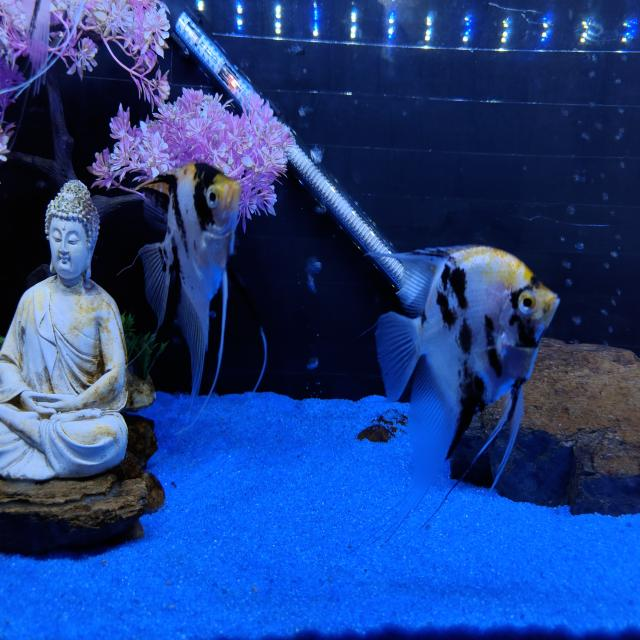Fish: (375, 246, 558, 518), (137, 163, 239, 400)
